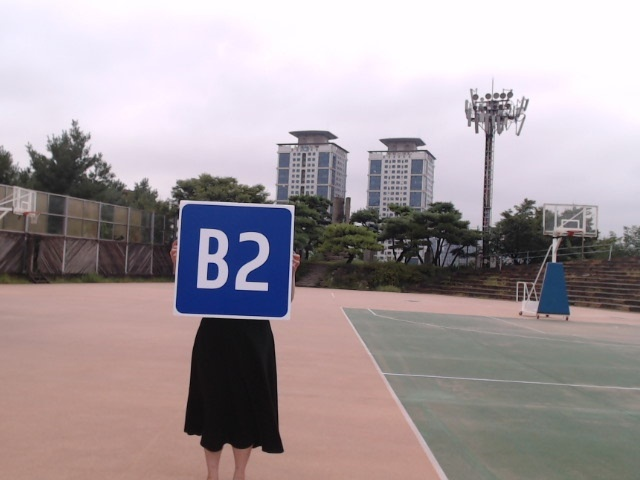delivery_b2: (174, 202, 293, 319)
